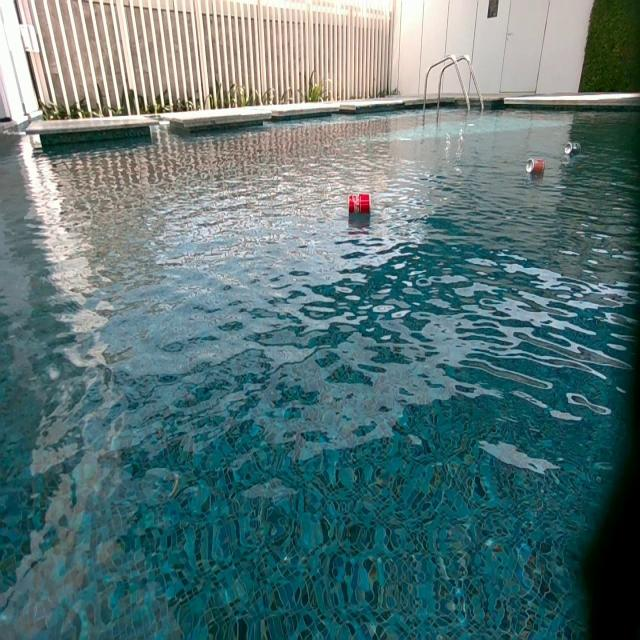Cans: (349, 195, 370, 215), (525, 159, 544, 178), (564, 142, 580, 156)
